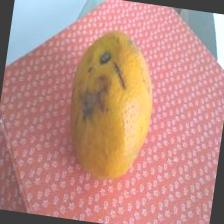Orange Rotten: (54, 16, 178, 197)
